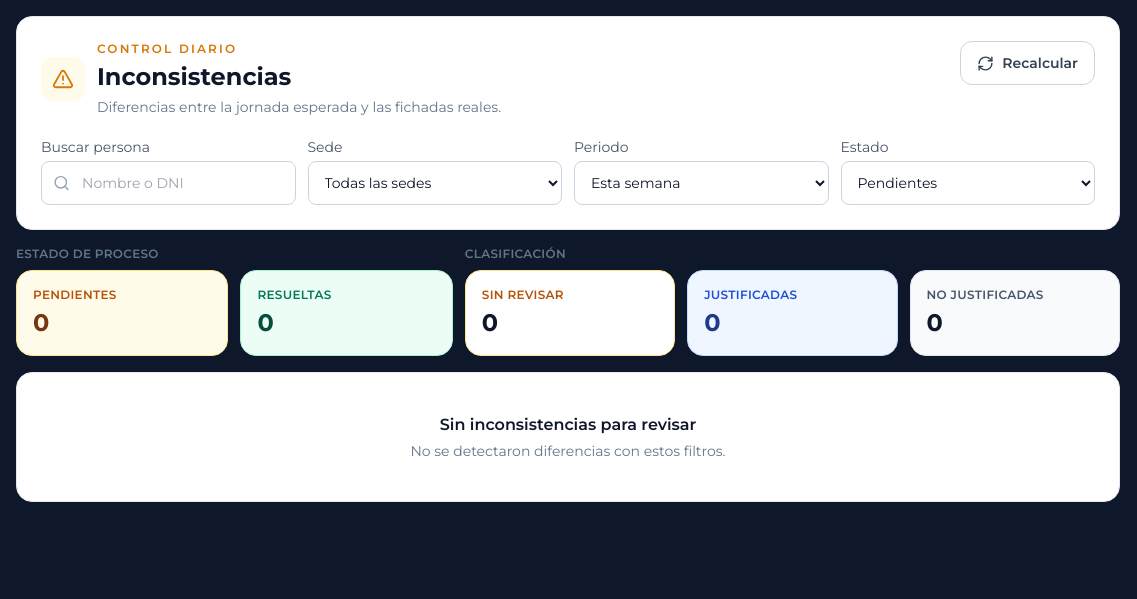
Test: attendance review › usa los mismos periodos del filtro de Horas
Select "Personalizado" in the dropdown labelled "Periodo" at [701, 183], box [574, 161, 828, 205]
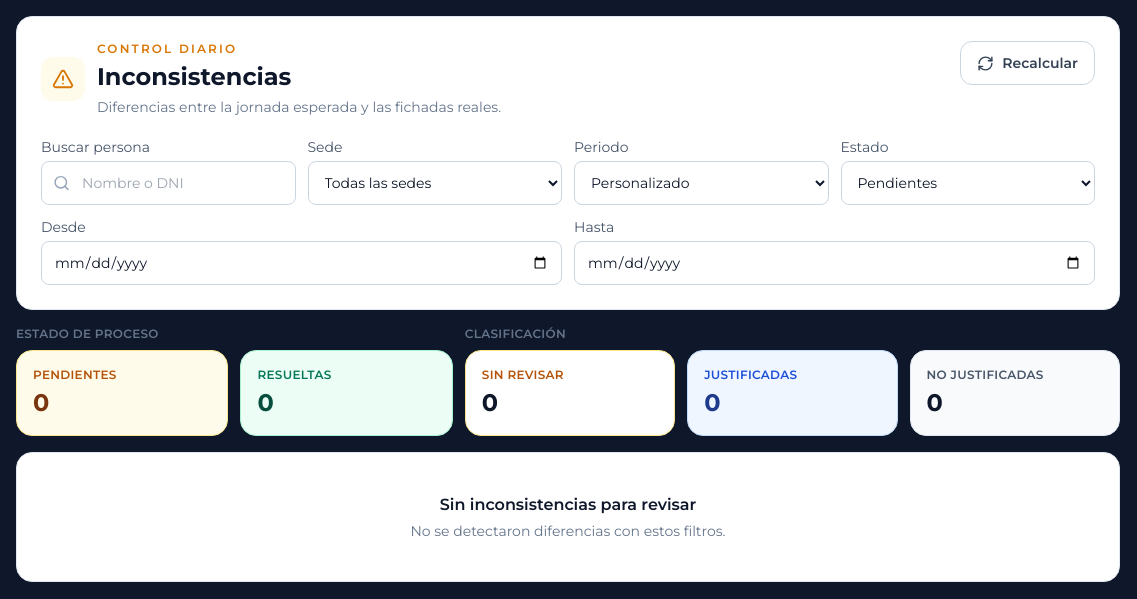
Expected: the number of date fields is 2, [41, 241, 562, 285]; [574, 241, 1095, 285]
